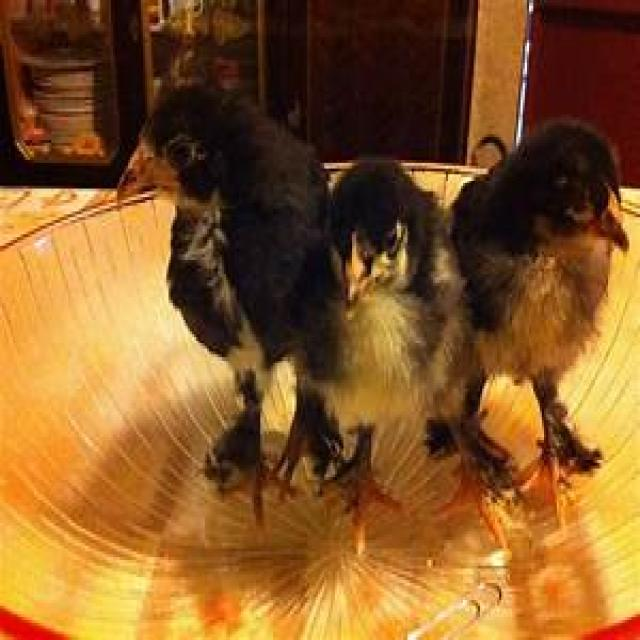chicken: (110, 74, 321, 485), (451, 126, 635, 482), (308, 147, 480, 493)
sheep: (13, 27, 13, 39)
